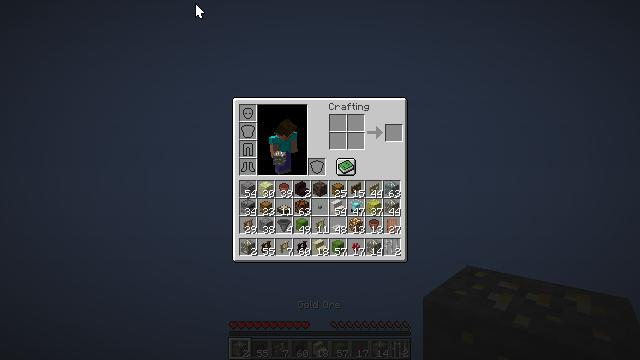cursor: (3, 195, 19, 205)
